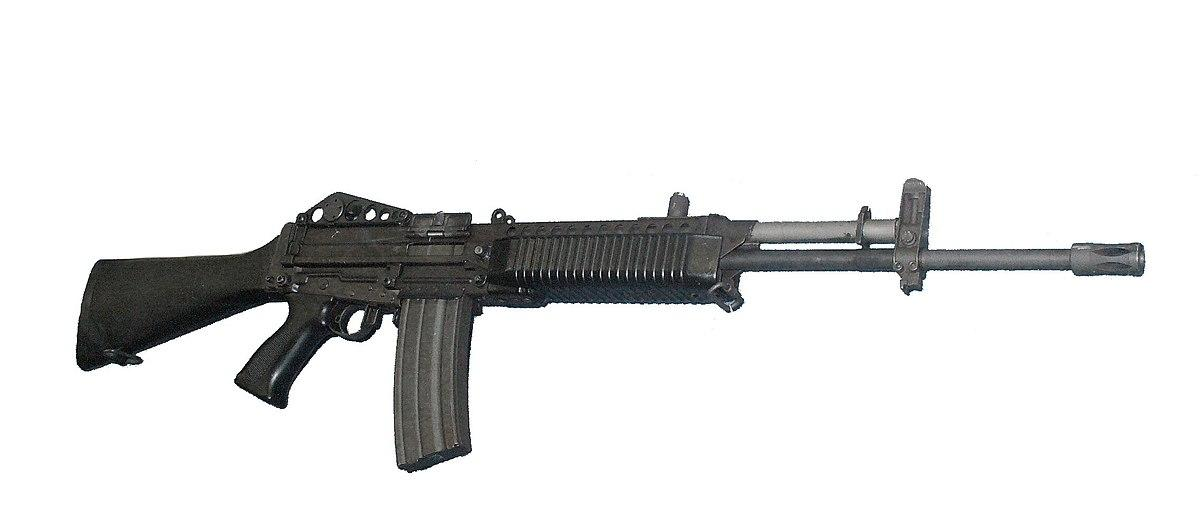larga: (75, 176, 1147, 474)
